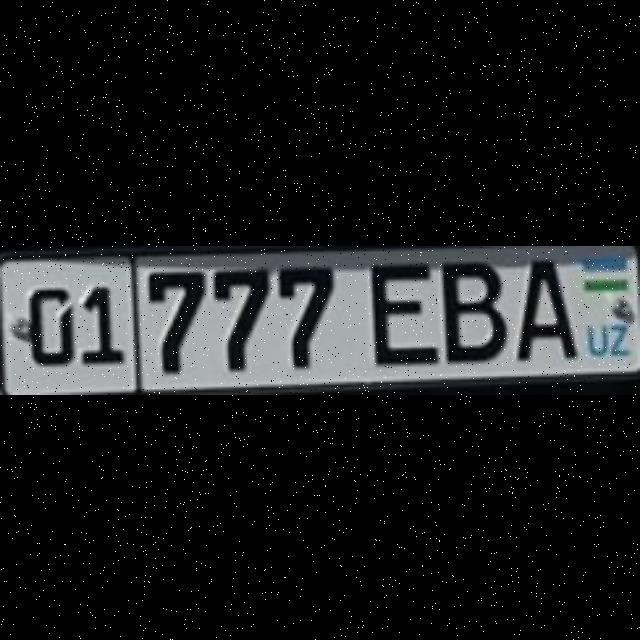0: (27, 284, 72, 360)
1: (79, 282, 121, 361)
7: (273, 260, 331, 366), (144, 266, 202, 370), (207, 264, 265, 368)
A: (514, 255, 574, 355)
B: (438, 258, 504, 360)
E: (367, 258, 433, 360)
